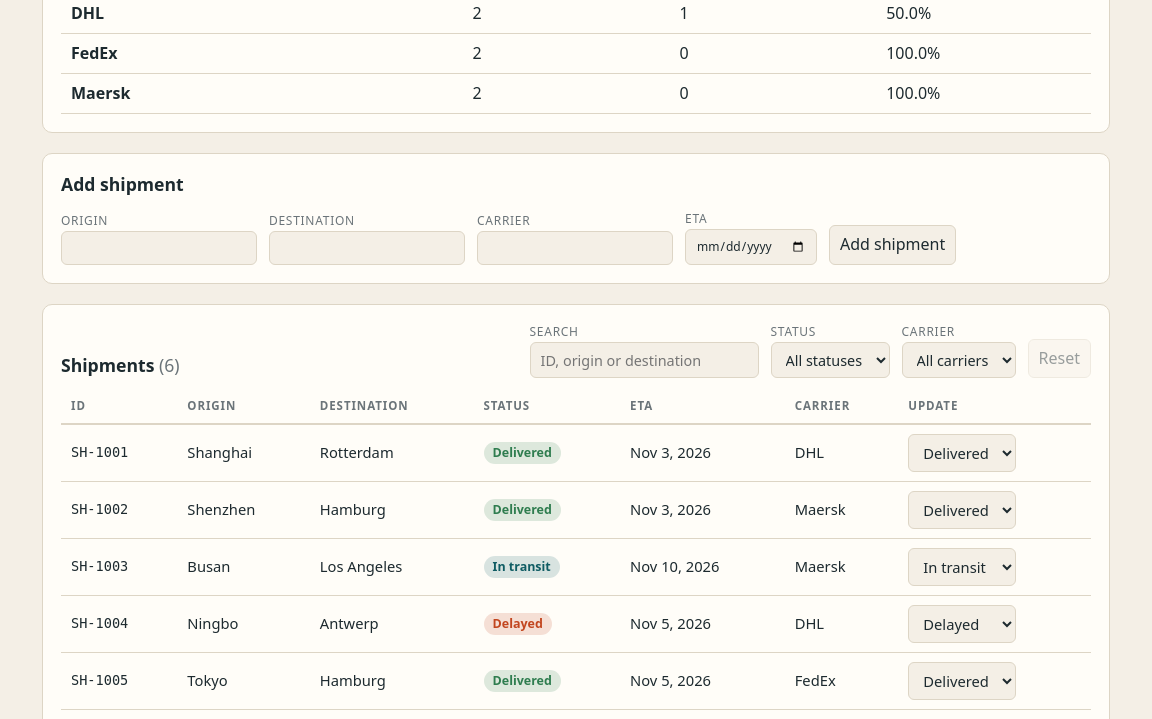
Scenario: App › shows the empty-state message when the search term matches nothing
(page scrolled)
Expected: the text "SH-1001" is shown, [61,424,177,481]
Type "zzz-no-match" into the search field labelled "Search". click: x=644, y=360
box: [530,342,758,378]
(page scrolled)
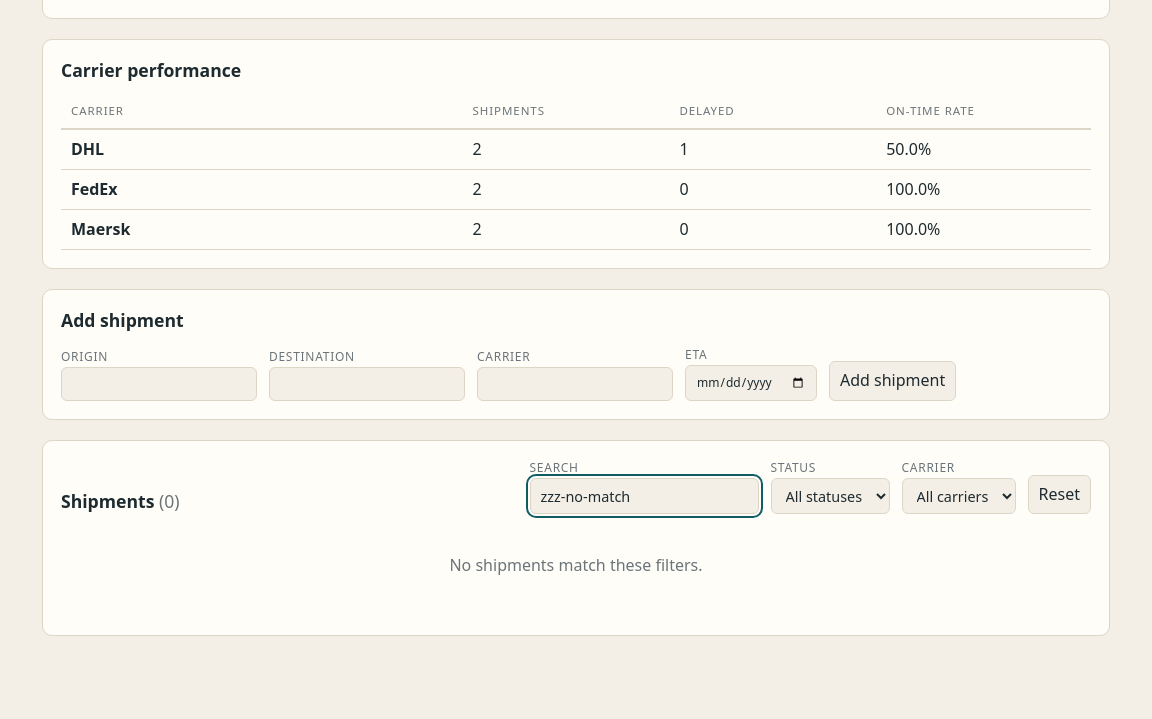
Expected: the text "No shipments match these filters." is shown, [450,554,703,576]
